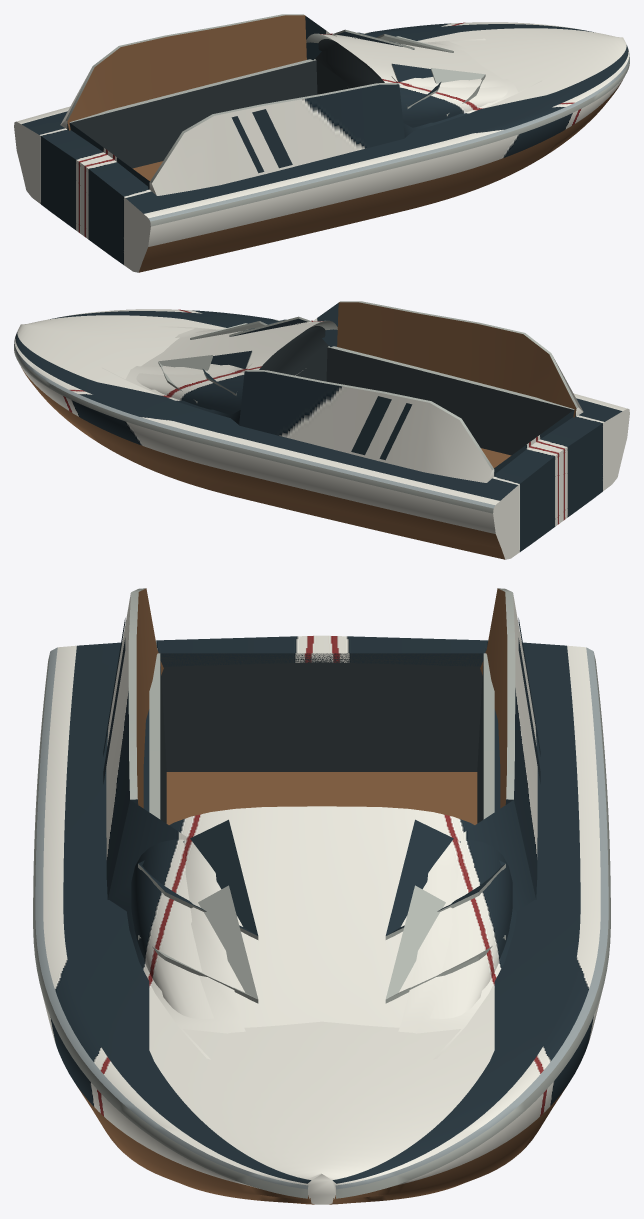
Rendered from Hull_23_SR_白帆・墨返し.glb.
3 views of the same model, one above another, from view 1: azimuth 30°, elevation 25°; view 2: azimuth 150°, elevation 25°; view 3: azimuth 270°, elevation 25° (orthographic). The views are drawn at different scales.
Visible parts, largest first — view 1: Hull_23_SR; view 2: Hull_23_SR; view 3: Hull_23_SR.
Boxes of the visible parts, box(x1,y1,x2,y2) form: Hull_23_SR: box(14, 14, 629, 272); Hull_23_SR: box(14, 301, 629, 559); Hull_23_SR: box(33, 588, 610, 1204).
Bounding box in the file's own units: 2.9 × 0.6856 × 1.34.
Materials: 4 (4 with a texture image).
